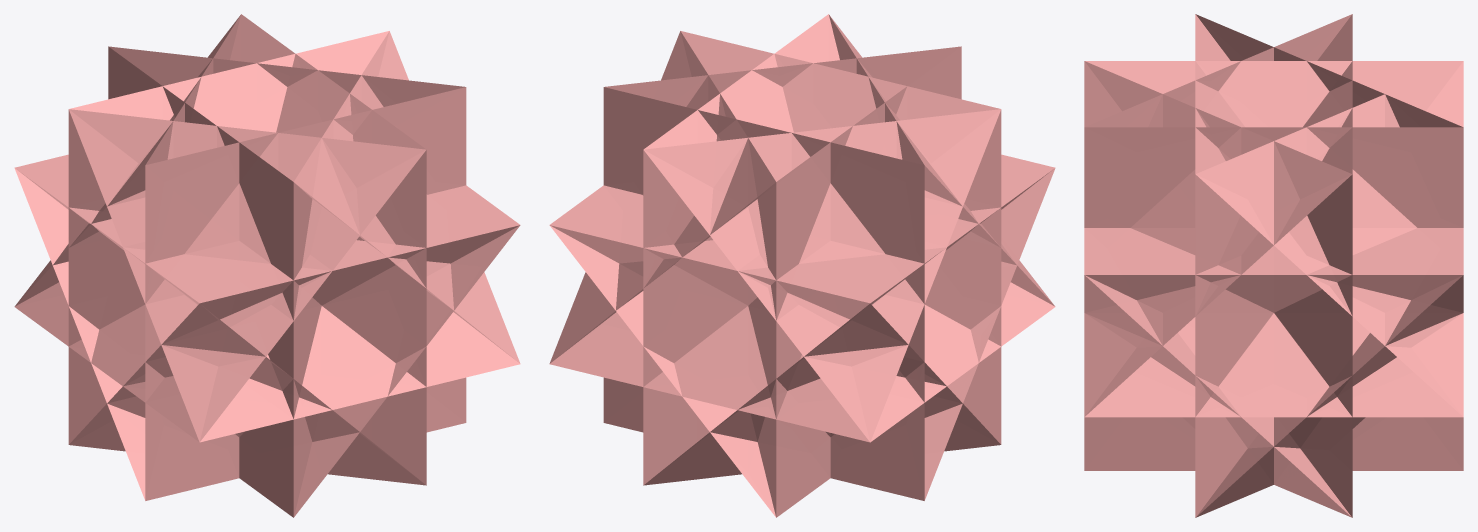
The model's file is UniformGreatRhombicuboctahedron.obj.
3 views of the same model, side by side, from view 1: azimuth 30°, elevation 25°; view 2: azimuth 150°, elevation 25°; view 3: azimuth 270°, elevation 25° (orthographic). The views are drawn at different scales.
Bounding box in the file's own units: 1 × 1 × 1.
